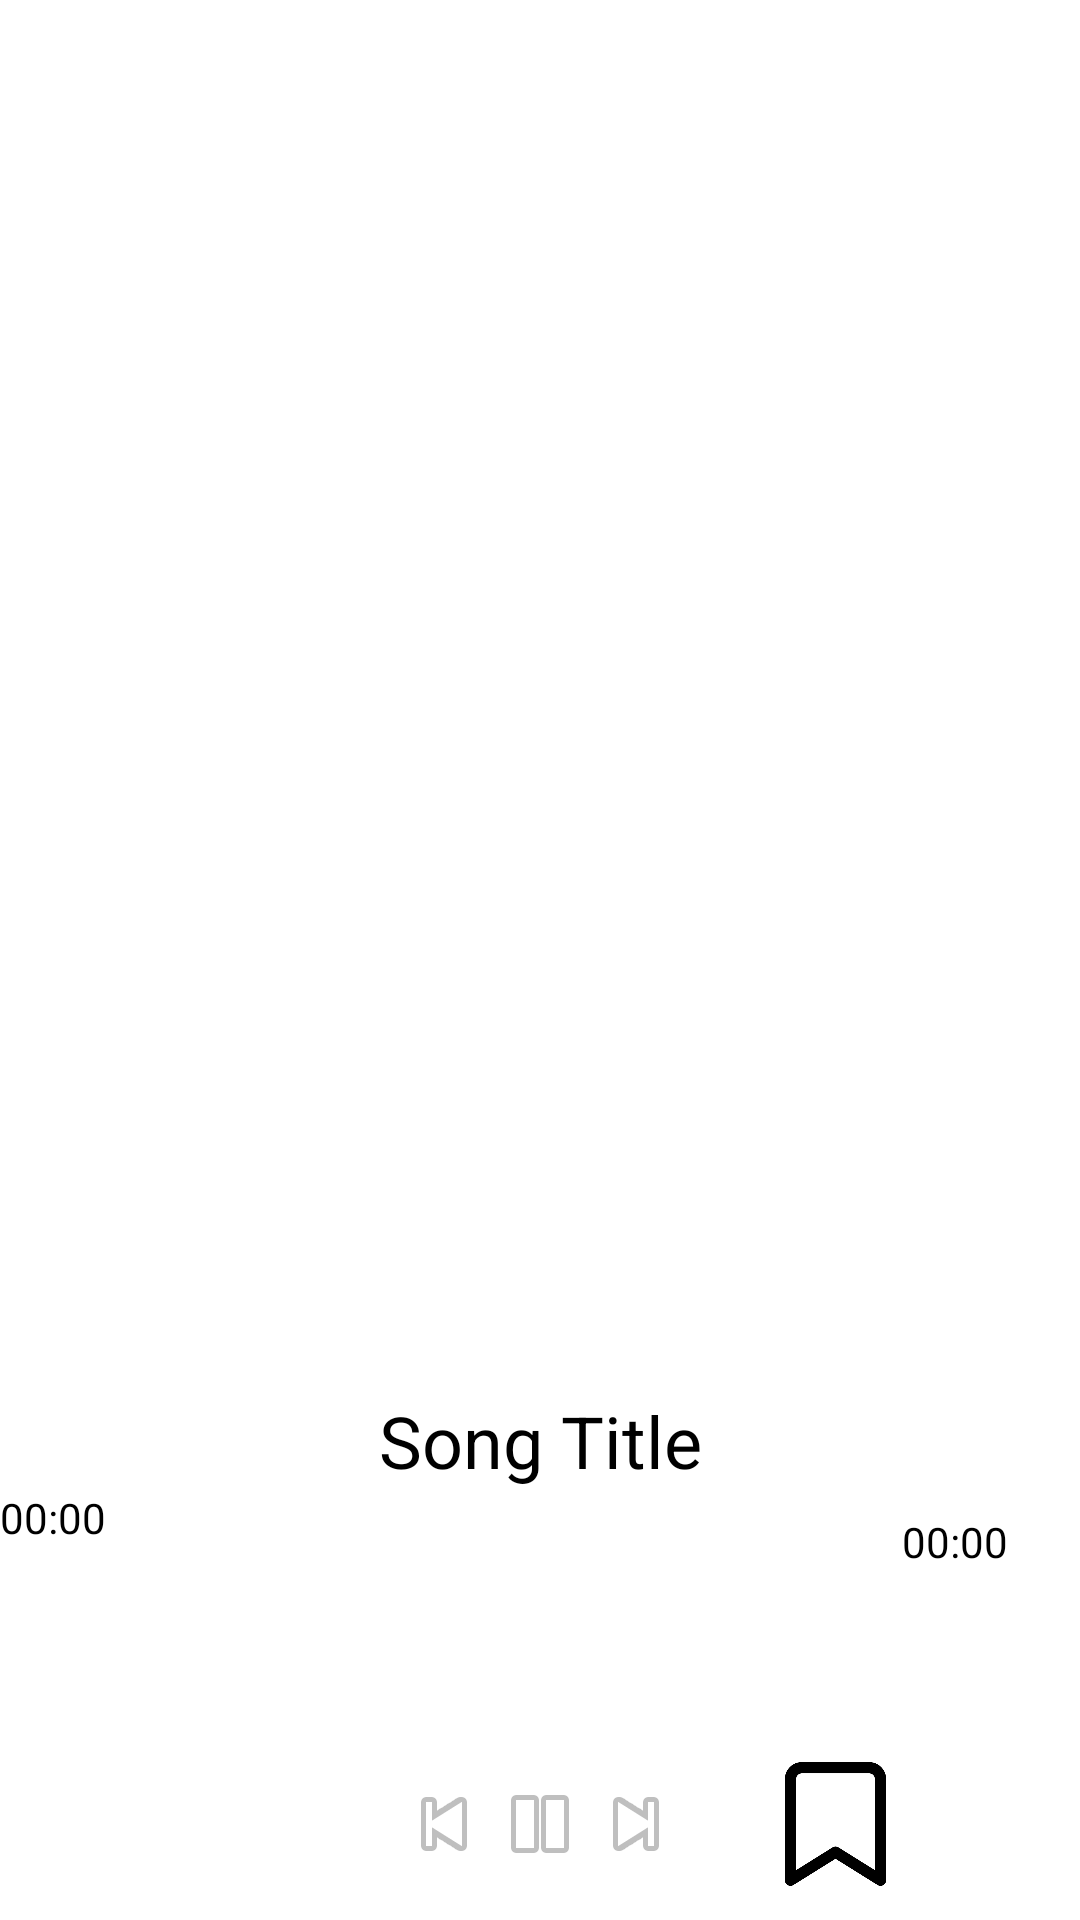

Where to tap for icons on this 1080x1920 app screen, as [x,y]:
bookmark: [835,1824]
Next: [636,1824]
Play/Pause: [540,1824]
Previous: [444,1824]
